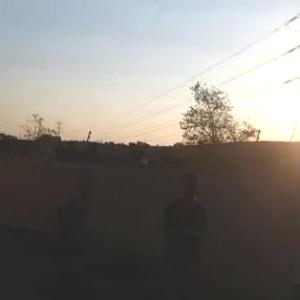follow: (153, 166, 211, 299)
